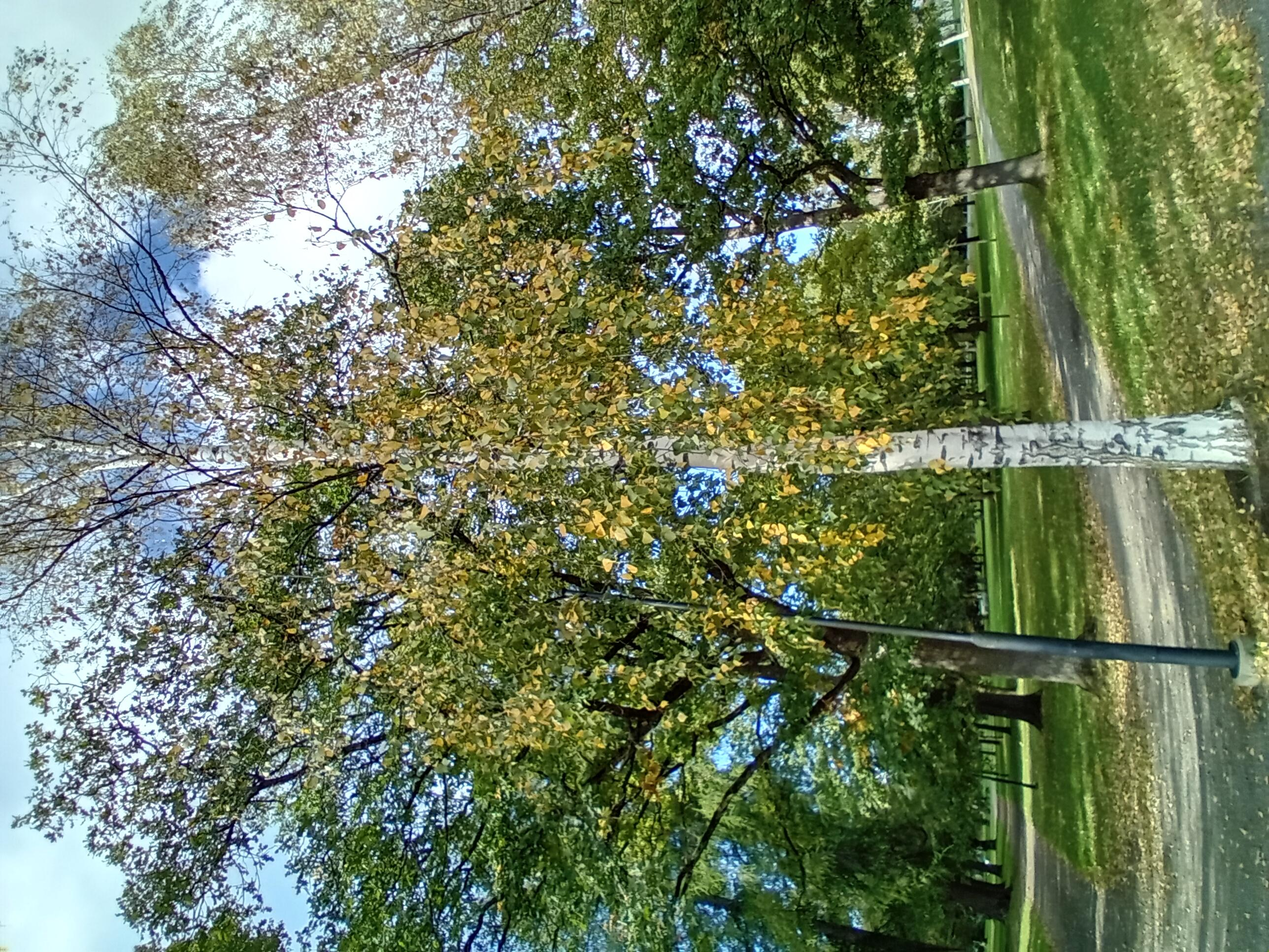Birch: (4, 2, 1251, 945), (437, 12, 875, 945)
